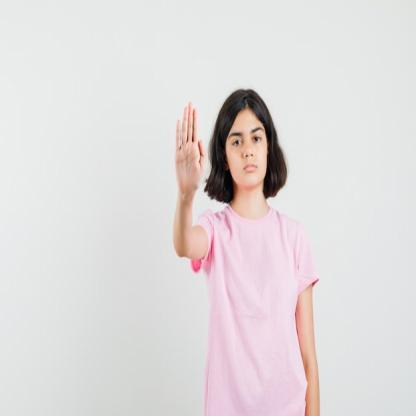stop: (172, 98, 208, 200)
